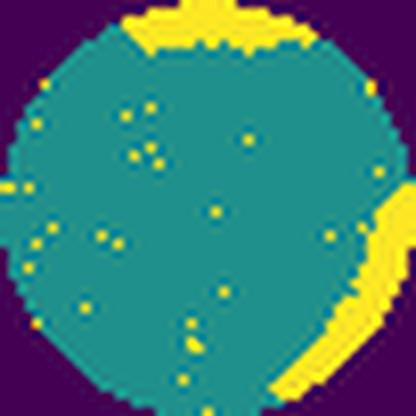Edge-Loc: (265, 180, 415, 406), (123, 0, 322, 54)
